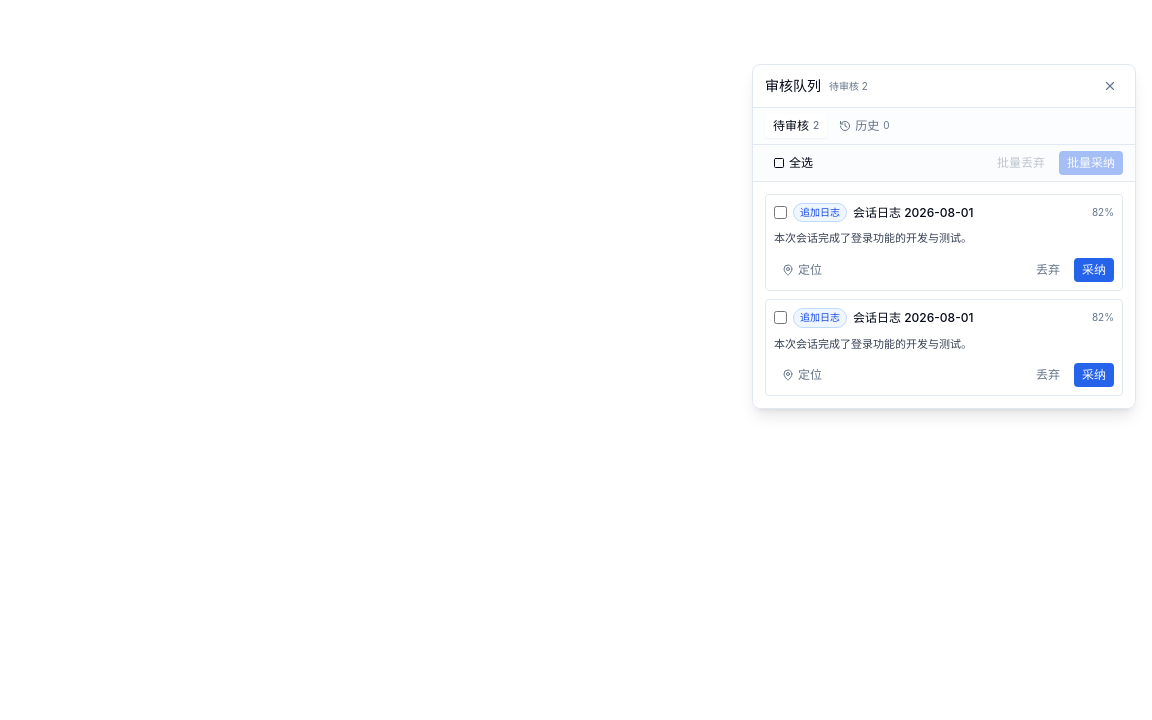
Test: WritebackPanel — batch selection › 全选 后再点切到 全不选
Click the button "全选" at (793, 163), box x1=765 y1=151 x2=821 y2=175
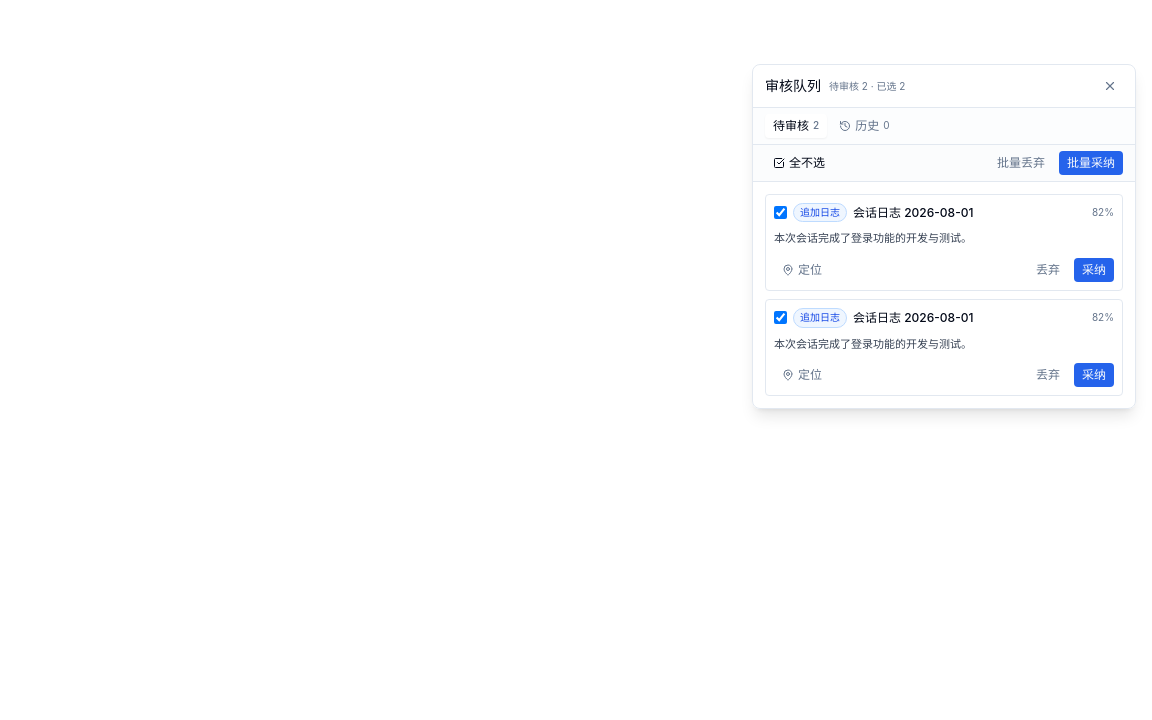
Expected: the text "待审核 2 · 已选 2" is shown, x1=829 y1=80 x2=905 y2=92
Click the button "全不选" at (799, 163), box x1=765 y1=151 x2=833 y2=175
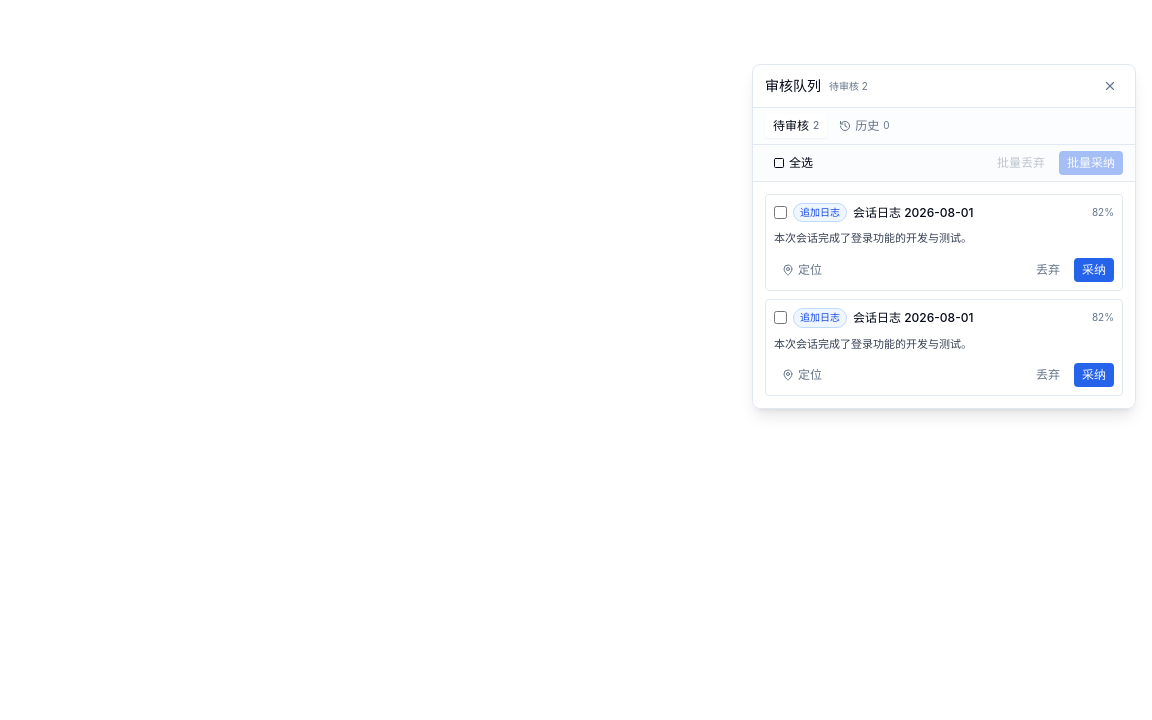
Expected: the text "已选" is gone
